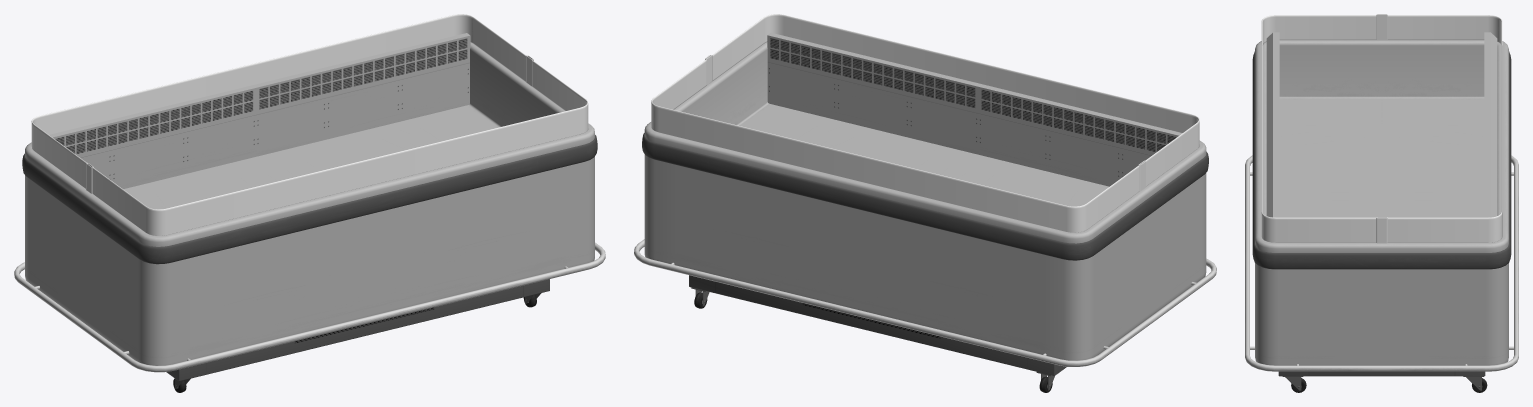
Rendered from frozenmeatfridge.fbx.
3 renders of one model, left to right at view 1: azimuth 30°, elevation 25°; view 2: azimuth 150°, elevation 25°; view 3: azimuth 270°, elevation 25°, orthographic. The views are drawn at different scales.
Visible parts, largest first — view 1: bac_body, bac_freeze, bac_glass, bac_bump, bac_pied, bac_bar; view 2: bac_body, bac_freeze, bac_glass, bac_bump, bac_pied, bac_bar; view 3: bac_body, bac_glass, bac_bump, bac_freeze, bac_bar, bac_pied, bac_glass_jonc, bac_wheel.002, bac_wheel.003.
Boxes of the visible parts, left/top/right/bottom form: bac_body: left=25, top=42, right=594, bottom=365; bac_freeze: left=49, top=33, right=470, bottom=189; bac_glass: left=31, top=14, right=588, bottom=235; bac_bump: left=22, top=135, right=597, bottom=264; bac_pied: left=166, top=279, right=549, bottom=381; bac_bar: left=14, top=242, right=605, bottom=372; bac_body: left=644, top=42, right=1206, bottom=360; bac_freeze: left=767, top=32, right=1182, bottom=186; bac_glass: left=651, top=14, right=1199, bottom=232; bac_bump: left=642, top=133, right=1208, bottom=260; bac_pied: left=689, top=275, right=1066, bottom=375; bac_bar: left=634, top=239, right=1216, bottom=366; bac_body: left=1255, top=40, right=1508, bottom=365; bac_glass: left=1261, top=15, right=1502, bottom=242; bac_bump: left=1252, top=51, right=1511, bottom=269; bac_freeze: left=1266, top=32, right=1497, bottom=217; bac_bar: left=1245, top=155, right=1518, bottom=371; bac_pied: left=1278, top=371, right=1485, bottom=376; bac_glass_jonc: left=1376, top=14, right=1387, bottom=243; bac_wheel.002: left=1282, top=376, right=1306, bottom=392; bac_wheel.003: left=1463, top=376, right=1487, bottom=392.
Size of the model in its own units: 2.03 by 1.08 by 0.8478.
Materials: 1 (1 with a texture image).
